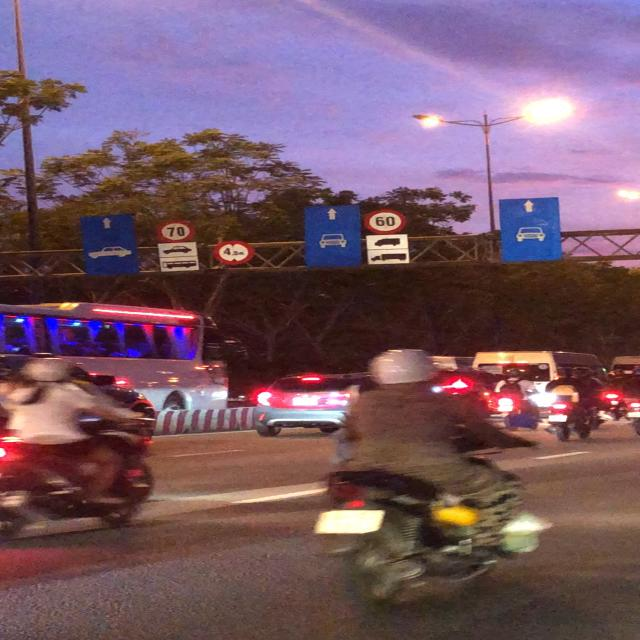Bien bao han che chieu cao: (214, 236, 262, 266)
Bien bao toc do toi da cho phep: (365, 208, 409, 234), (152, 220, 200, 243)
